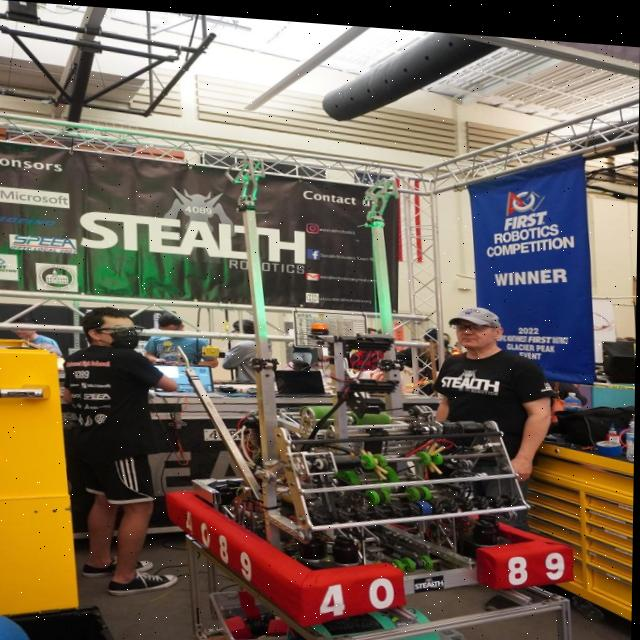robot: (163, 144, 579, 634)
